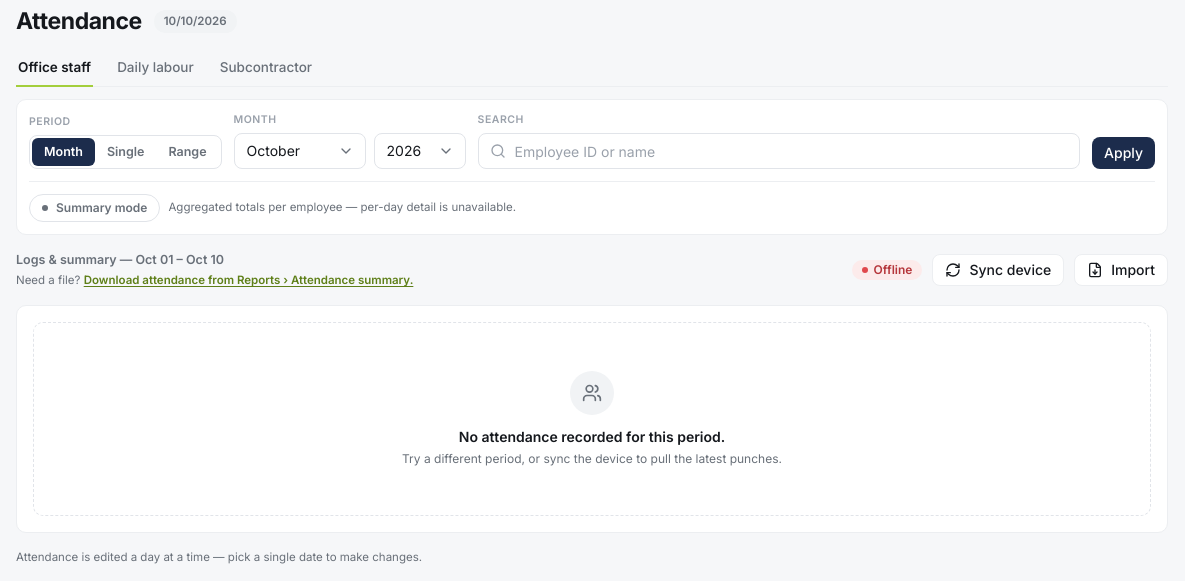
Test: Office staff — period selects the view, not a third tab level › leaves Daily labour and Subcontractor unaffected by the period-view rule
Check: the element with test id "attendance-tabs" is shown, box left=16, top=50, right=1168, bottom=86
Step 1. Click the tab with test id "attendance-tab-DAILY_LABOUR" → point(155, 68), box left=115, top=50, right=196, bottom=86
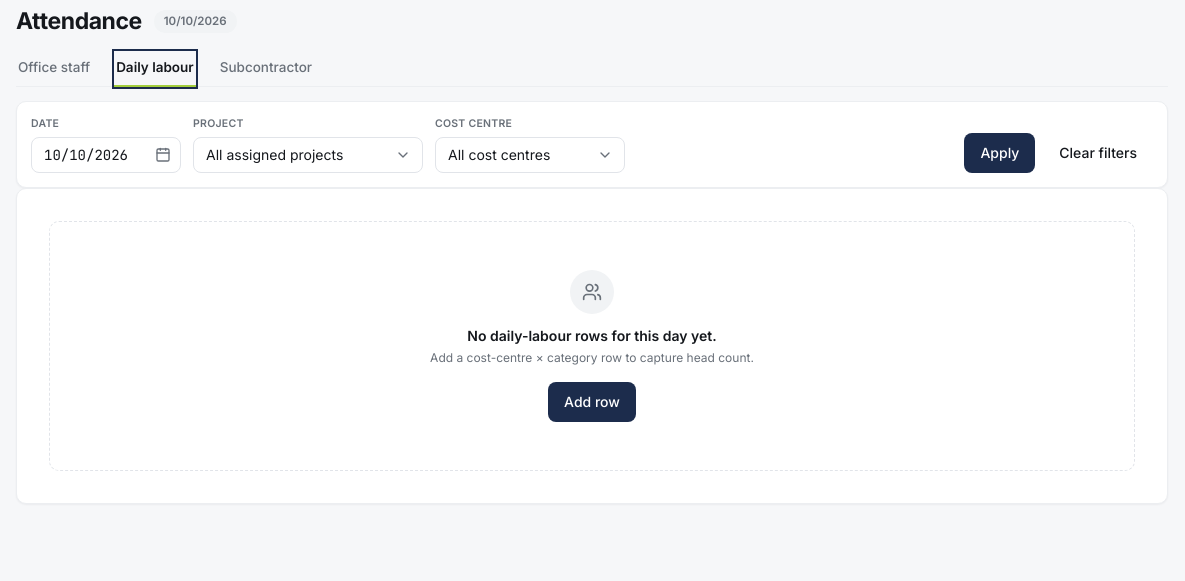
Check: the element with test id "office-staff-panel" is gone
Check: the text with test id "range-readonly-note" is gone
